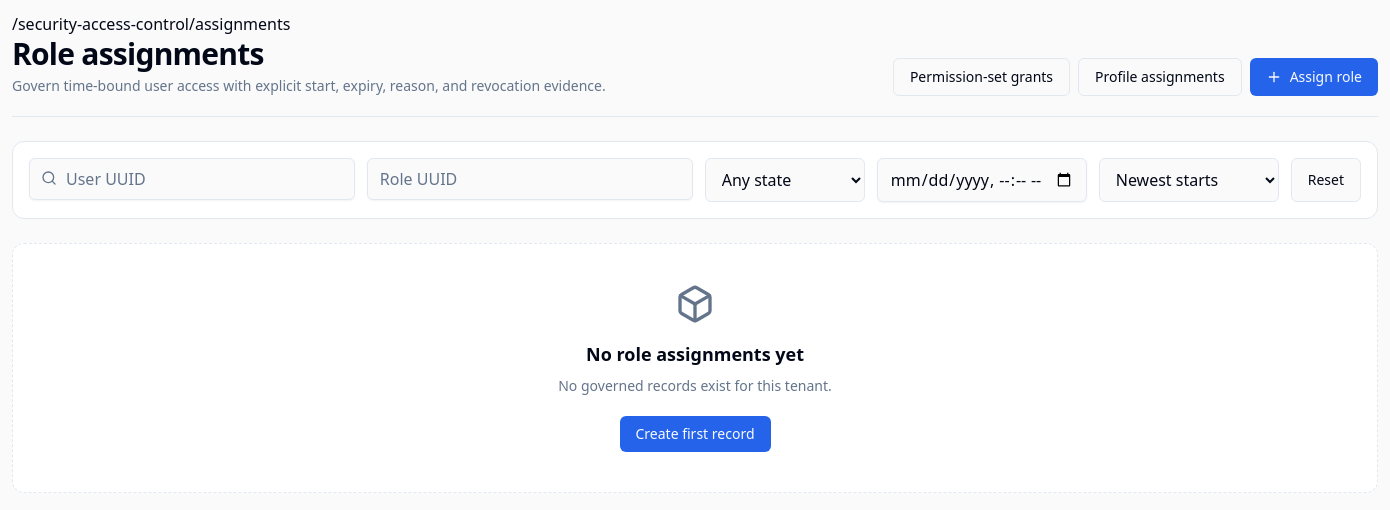
Test: security administration page states › routes assignment action buttons to governed assignment workspaces
Expected: the heading "No role assignments yet" is shown, [586, 342, 804, 366]
Click the button "Permission-set grants": {"x": 982, "y": 77} [893, 58, 1070, 96]
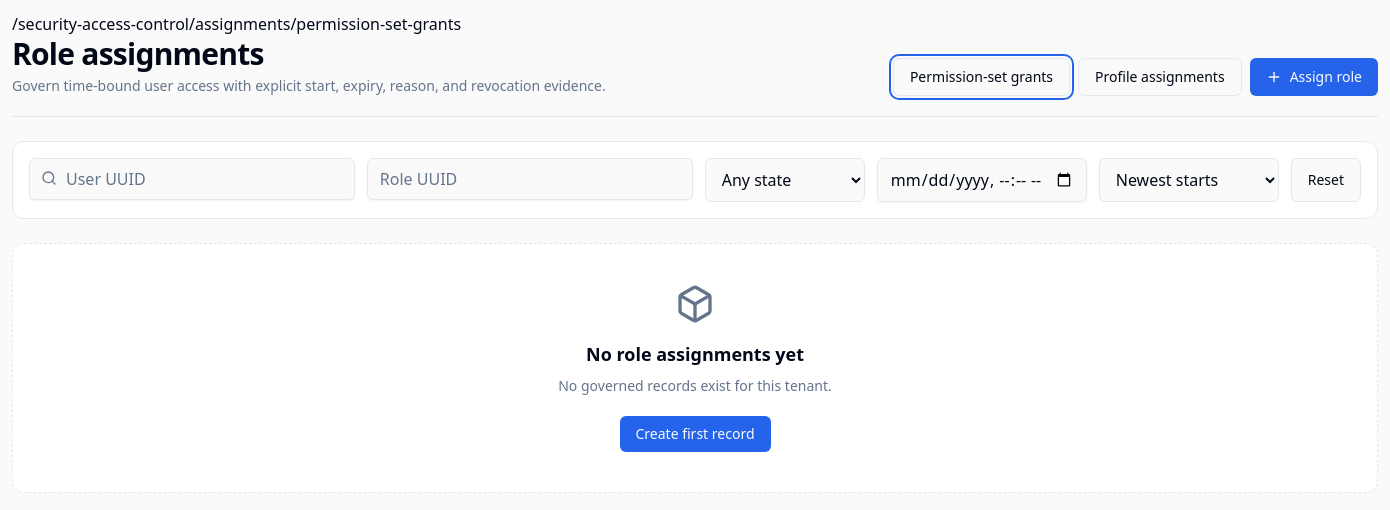
Expected: the text named "Current route" reads "/security-access-control/assignments/permission-set-grants", [12, 13, 461, 35]
Click the button "Profile assignments": {"x": 1160, "y": 77} [1078, 58, 1242, 96]
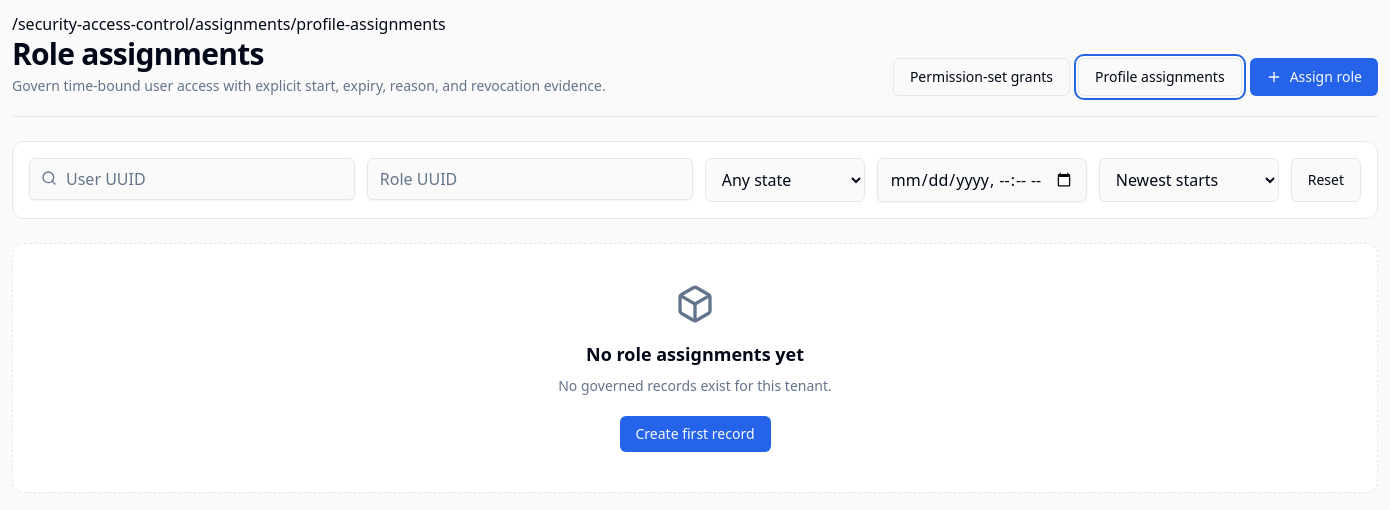
Expected: the text named "Current route" reads "/security-access-control/assignments/profile-assignments", [12, 13, 446, 35]
Click the button "Assign role": {"x": 1314, "y": 77} [1250, 58, 1378, 96]
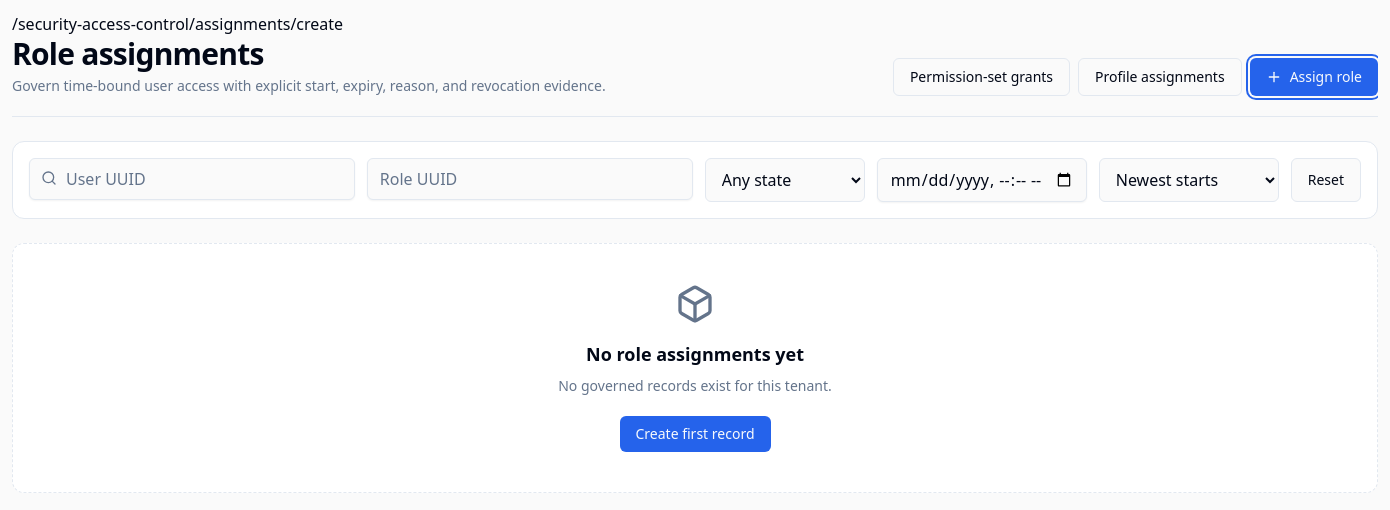
Expected: the text named "Current route" reads "/security-access-control/assignments/create", [12, 13, 343, 35]
